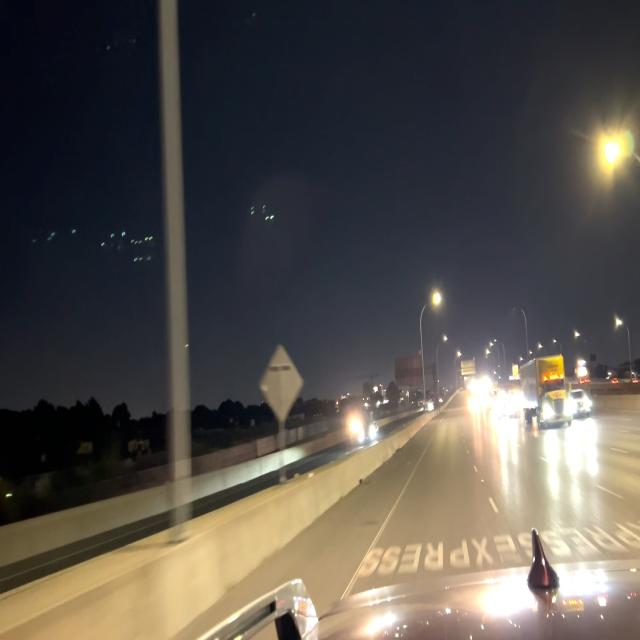back-of-sign: (256, 343, 303, 418), (393, 349, 424, 391)
